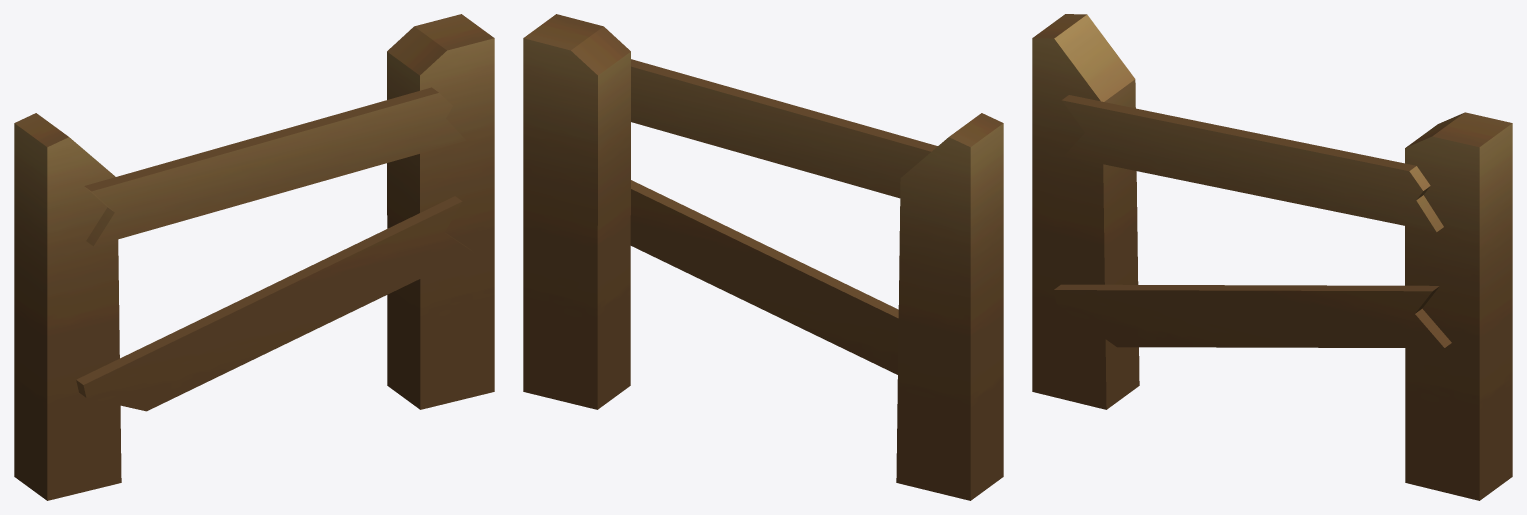
File: pack04_fences_16.fbx
3 renders of one model, left to right at view 1: azimuth 30°, elevation 25°; view 2: azimuth 150°, elevation 25°; view 3: azimuth 330°, elevation 25°, orthographic.
Visible parts, largest first — view 1: Small_Fence_03; view 2: Small_Fence_03; view 3: Small_Fence_03.
Part boxes in pixels (<box>): Small_Fence_03: <box>14,14,494,500</box>; Small_Fence_03: <box>523,14,1003,500</box>; Small_Fence_03: <box>1032,14,1512,500</box>.
Bounding box in the file's own units: 35.97 × 27.55 × 5.63.
Materials: 1 (1 with a texture image).
